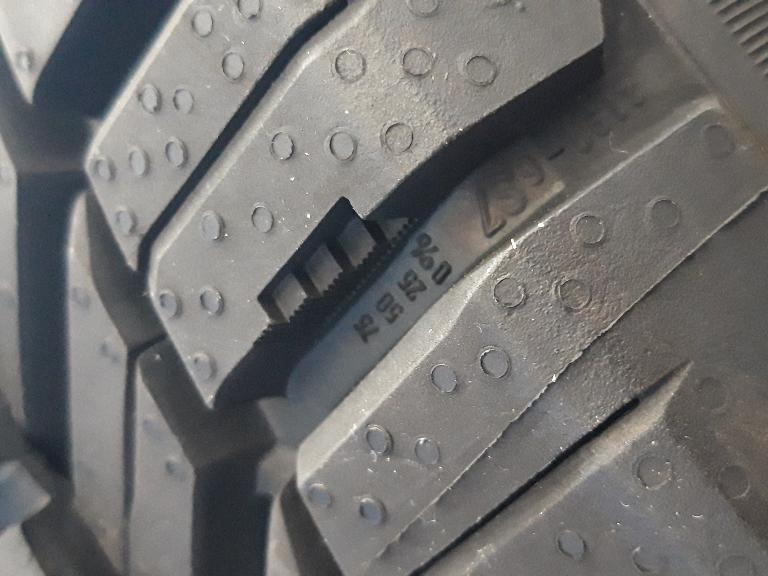temoin:100: (240, 189, 438, 367)
